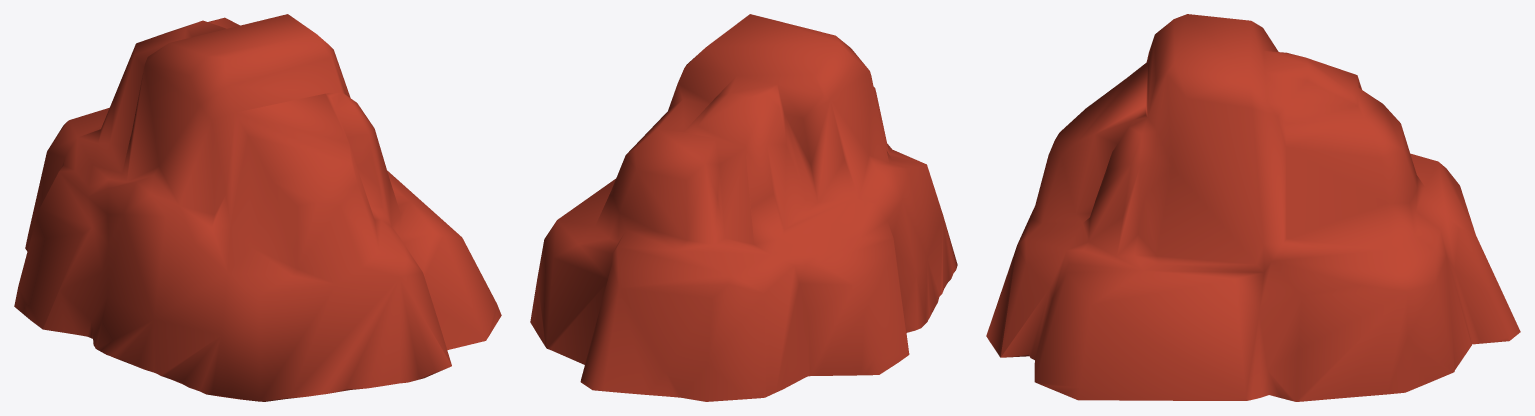
The model's file is SM_Rock.fbx.
3 renders of one model, left to right at view 1: azimuth 30°, elevation 25°; view 2: azimuth 150°, elevation 25°; view 3: azimuth 270°, elevation 25°, orthographic. The views are drawn at different scales.
Visible parts, largest first — view 1: Clean; view 2: Clean; view 3: Clean.
Boxes of the visible parts, left/top/right/bottom form: Clean: left=14, top=14, right=501, bottom=401; Clean: left=530, top=14, right=957, bottom=401; Clean: left=986, top=14, right=1520, bottom=401.
Size of the model in its own units: 4.74 by 3.47 by 6.16.
